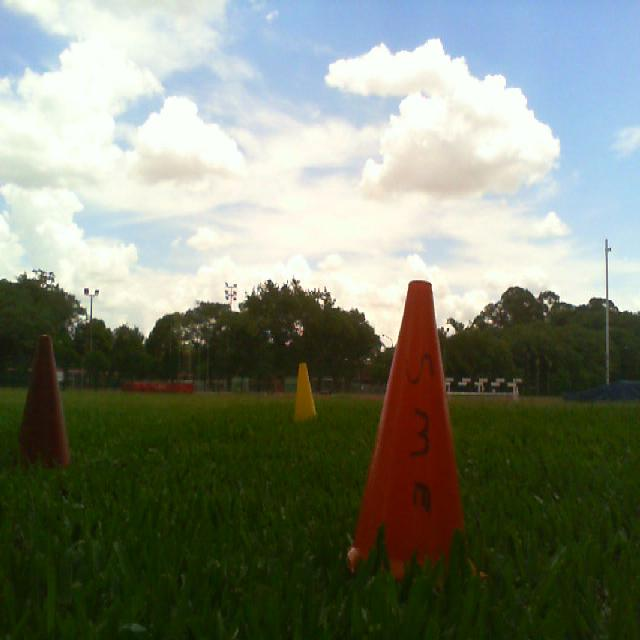cone: (345, 279, 490, 589), (16, 333, 70, 472), (292, 362, 318, 424)
